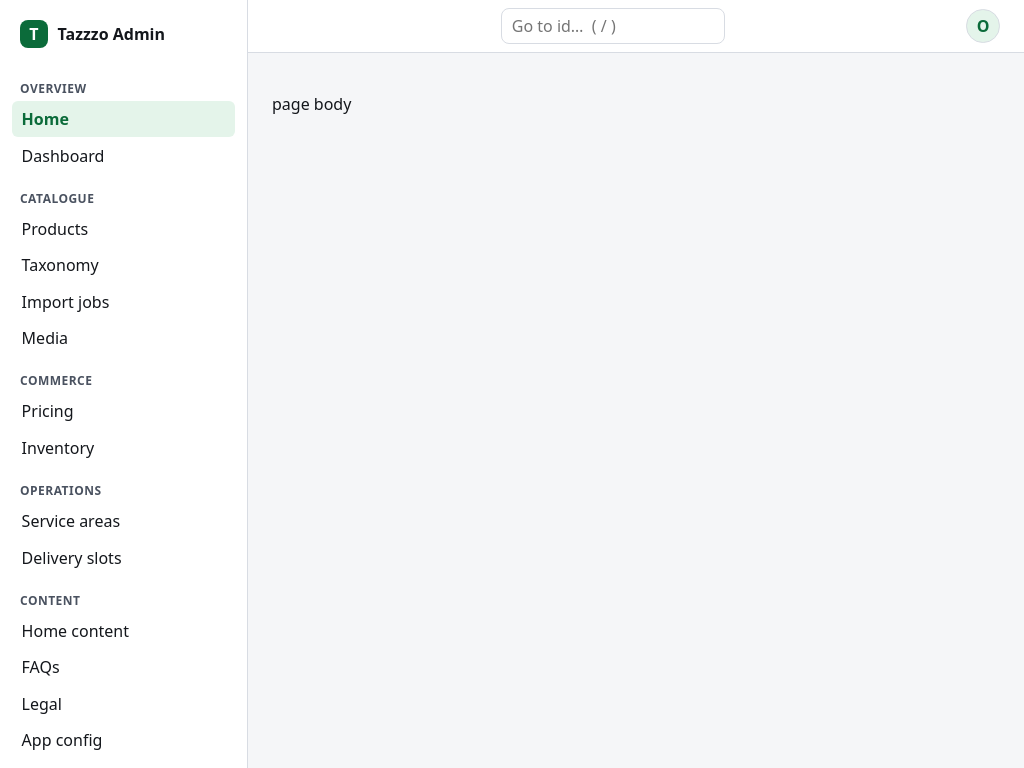
app shell › opens the profile menu with identity and roles, and Escape closes it
Click the button named "Account menu for ops@tazzzo.test" at (983, 26), box [966, 9, 1000, 43]
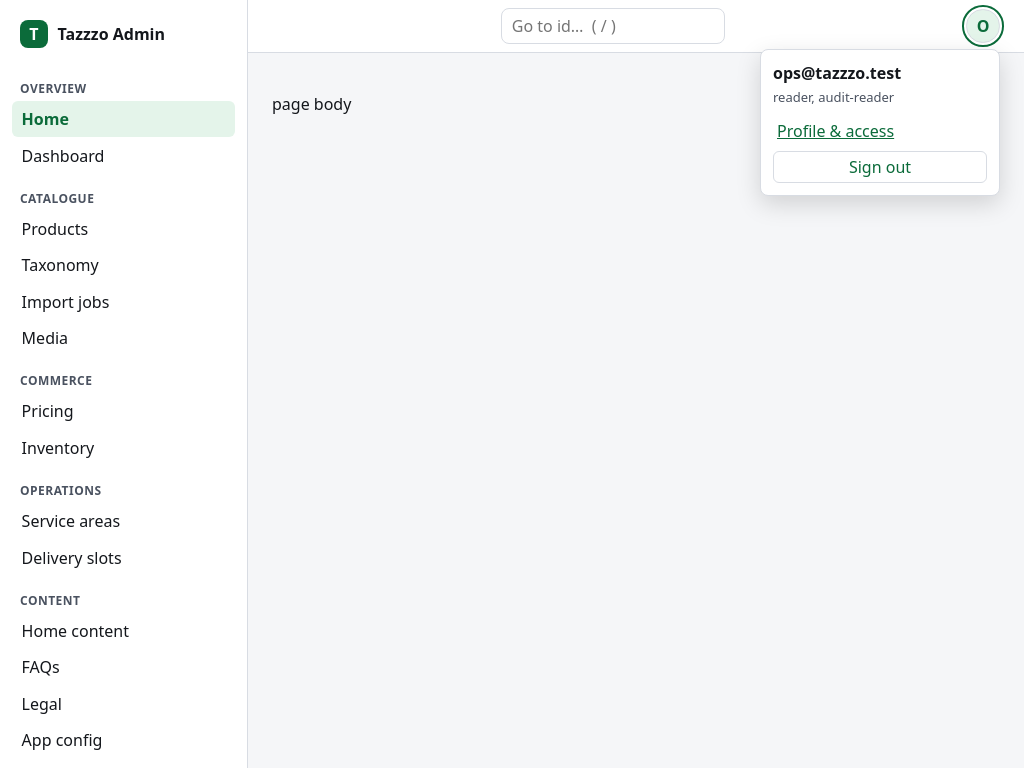
Expected: the element with id "account-menu" shows "ops@tazzzo.test", [773, 62, 901, 84]
Expected: the element with id "account-menu" shows "reader, audit-reader", [773, 88, 894, 106]
Press Escape
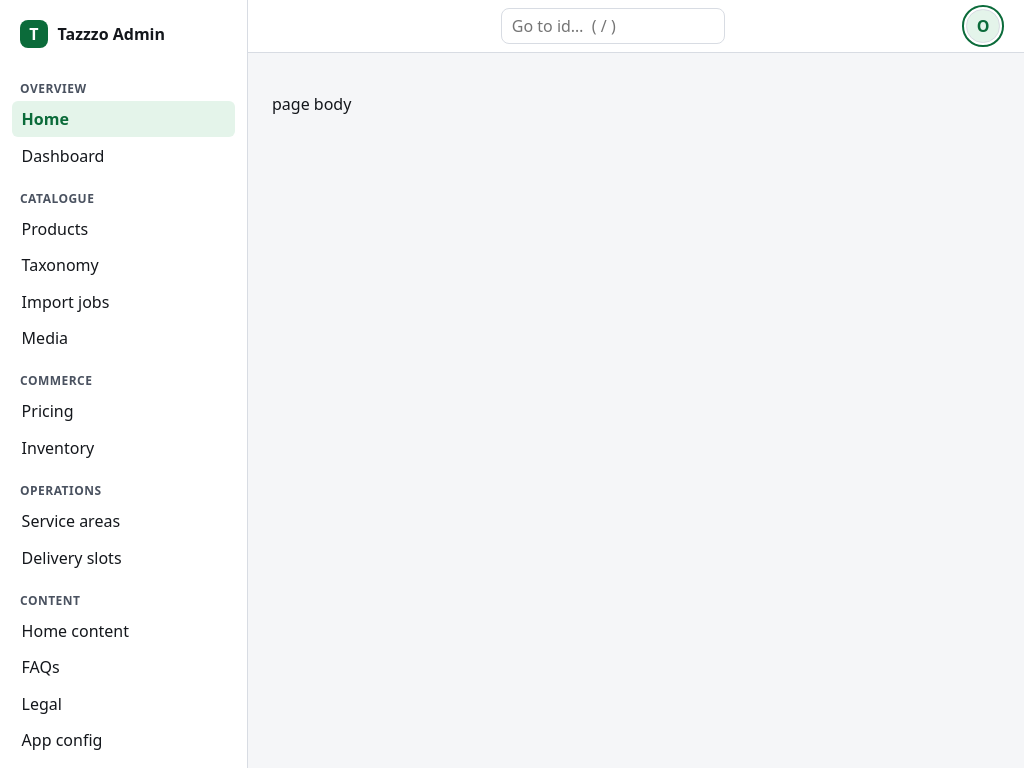
Expected: the element with id "account-menu" is gone
